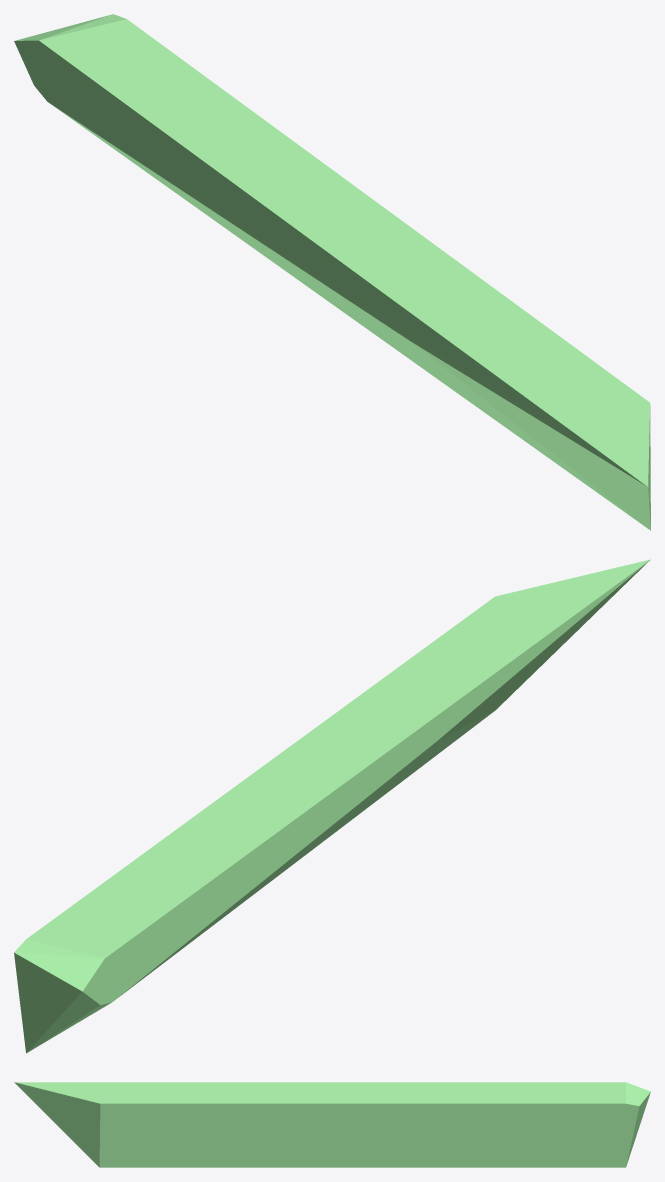
The model's file is dxxx_Lp21_respondable_PSM1_coll_5.dae.
The picture shows the model from 3 angles, top to bottom: view 1: azimuth 30°, elevation 25°; view 2: azimuth 150°, elevation 25°; view 3: azimuth 270°, elevation 25°; orthographic projection. The views are drawn at different scales.
Parts seen in each view (by area): view 1: Node_000001D818CBB270; view 2: Node_000001D818CBB270; view 3: Node_000001D818CBB270.
Part boxes in pixels (bbox=[...]): Node_000001D818CBB270: bbox=[14, 14, 650, 530]; Node_000001D818CBB270: bbox=[14, 559, 650, 1053]; Node_000001D818CBB270: bbox=[14, 1082, 650, 1167].
Size of the model in its own units: 0.0131 by 0.018 by 0.1623.
